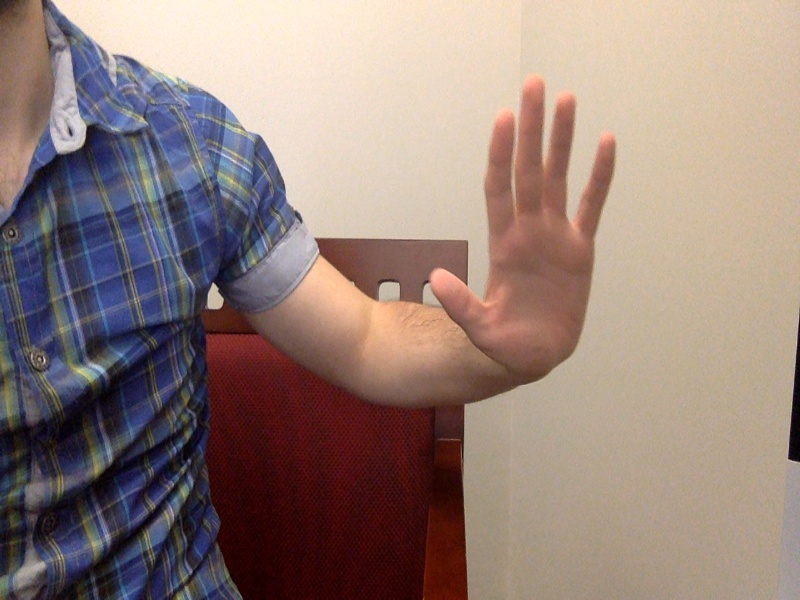5-hand: (431, 76, 621, 370)
